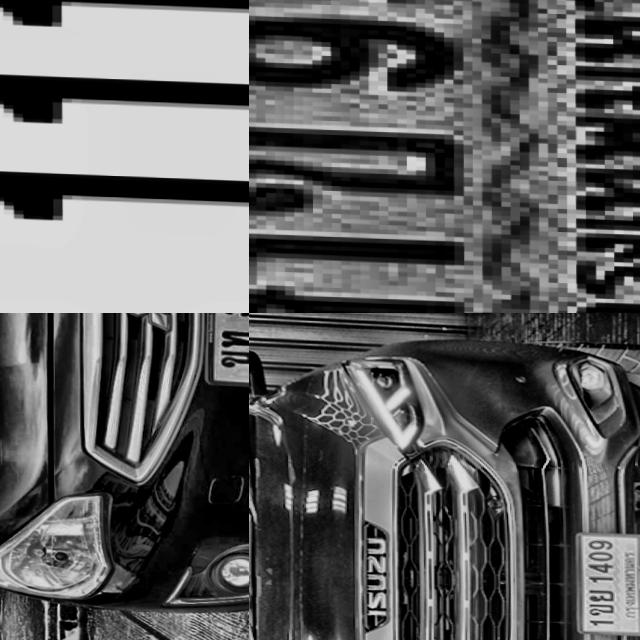license-plate: (249, 0, 640, 313), (0, 0, 249, 313), (569, 526, 640, 634), (194, 313, 249, 391)
